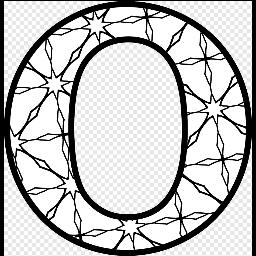o: (4, 0, 252, 256)
